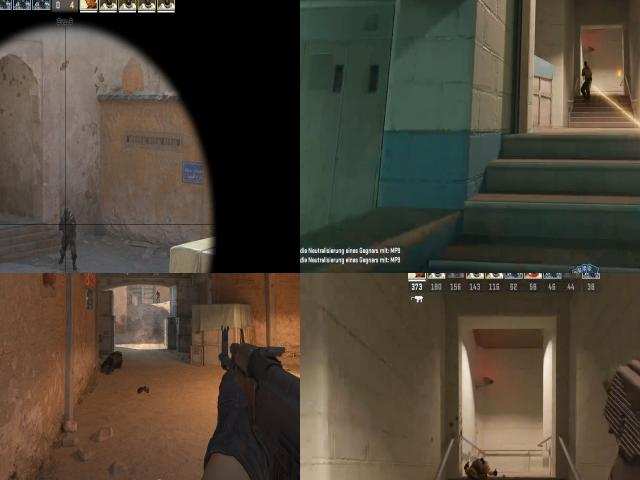CT: (59, 206, 77, 270), (156, 290, 160, 302)
CT-Head: (64, 209, 70, 219), (157, 290, 158, 292)
Dead: (461, 449, 503, 480), (101, 352, 124, 371)
T: (582, 56, 594, 92)
T-Head: (584, 61, 590, 71)
